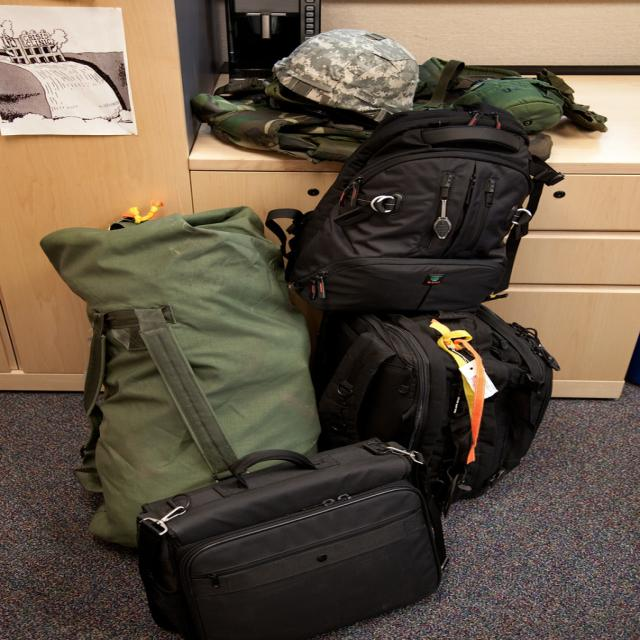backpack: (38, 200, 337, 549), (126, 442, 450, 624), (273, 104, 545, 318), (304, 288, 554, 498)
